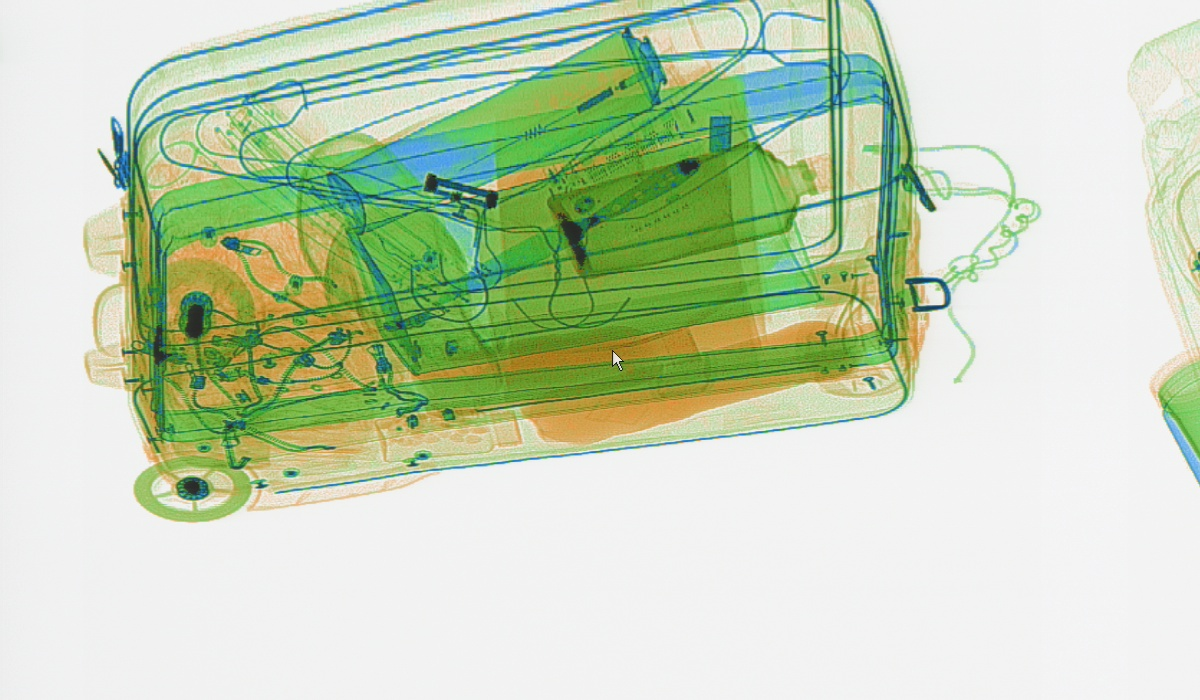knife: (432, 156, 703, 307)
pressure: (325, 26, 665, 233)
